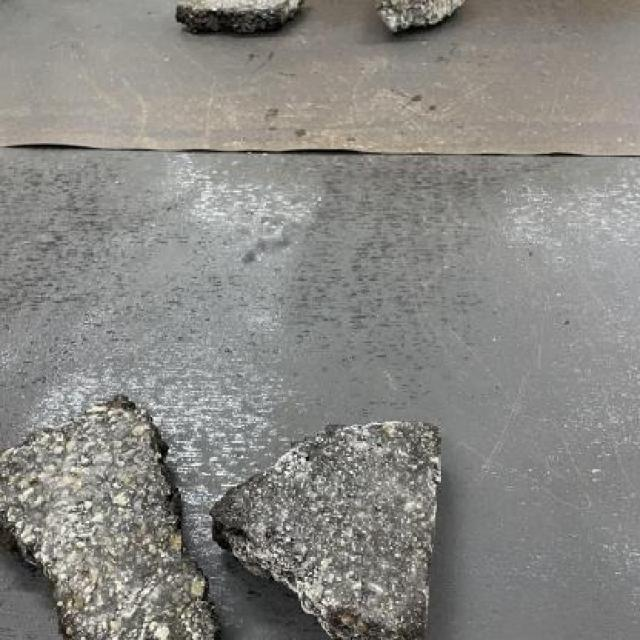Road Debris: (12, 399, 210, 636), (229, 428, 440, 624)
